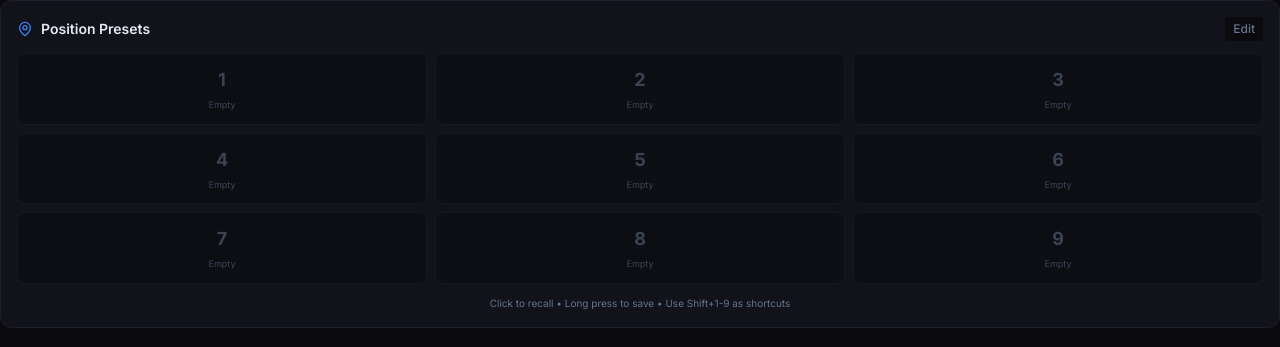
PresetControls › Edit mode › should toggle edit mode on Edit button click
Click the button "Edit" at (1244, 29), box [1225,17,1263,41]
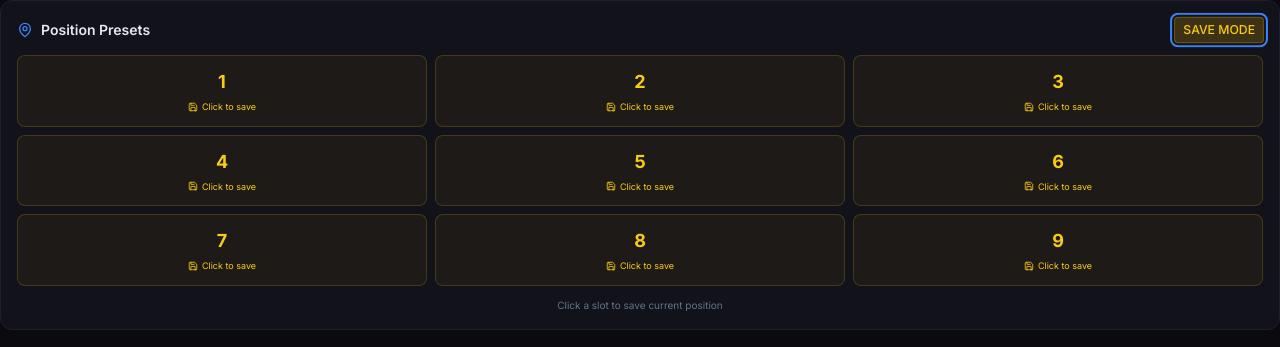
Check: the button "SAVE MODE" is shown, box [1174,17,1264,43]
